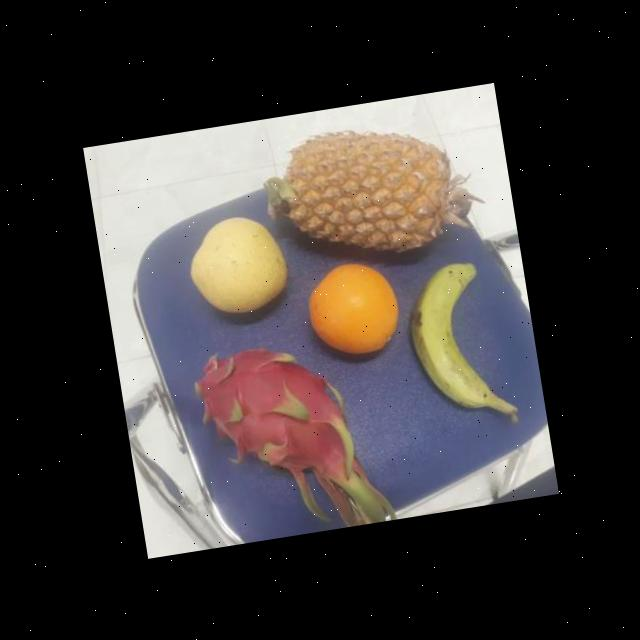banana: (395, 258, 506, 422)
guava: (178, 212, 292, 321)
pear: (298, 256, 406, 362)
pineapple: (264, 117, 458, 274)
pitaya: (186, 335, 360, 494)
